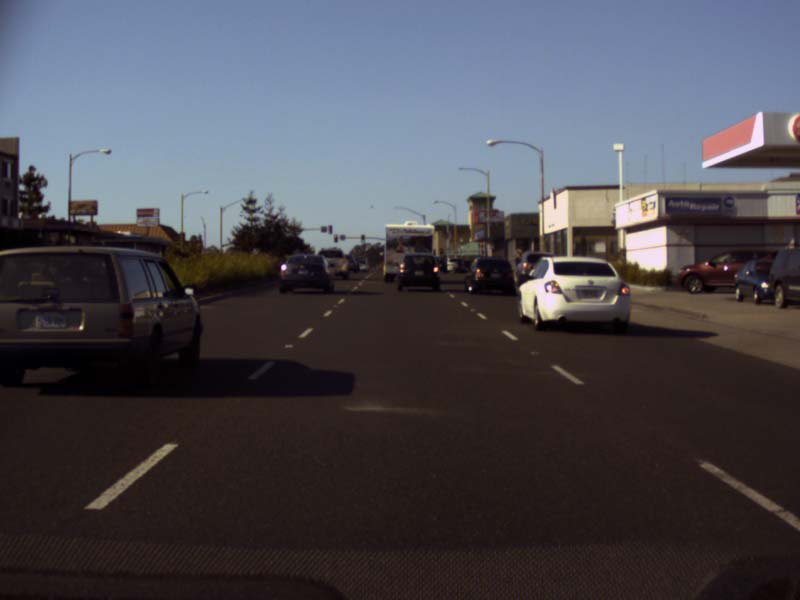Green: (360, 234, 364, 242)
Red: (333, 234, 337, 242)
